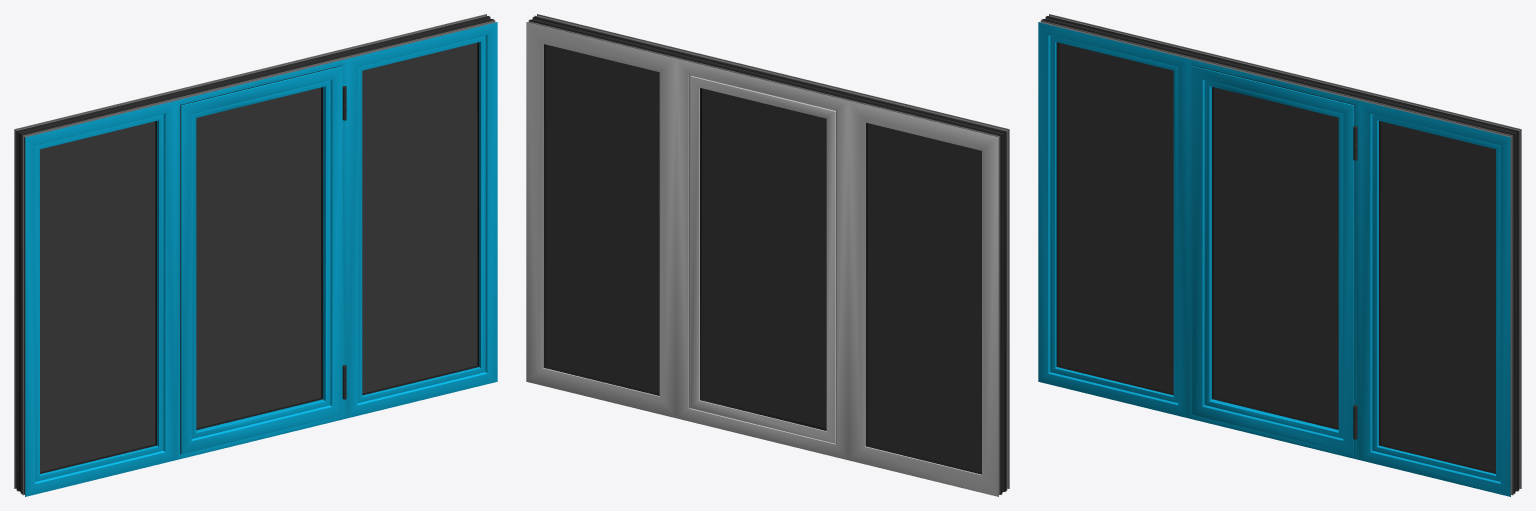
The model's file is 98_3_glass_1_door.fbx.
The picture shows the model from 3 angles, left to right: view 1: azimuth 30°, elevation 25°; view 2: azimuth 150°, elevation 25°; view 3: azimuth 330°, elevation 25°; orthographic projection.
Visible parts, largest first — view 1: SM_extra_98_013, SM_Window_Frame_1_door_98_003, SM_Door_Frame_98_L_021, SM_Door_Frame_98_L_023, SM_Window_Frame_1_door_98_007, SM_extra_98_019, SM_Door_Frame_98_L_026; view 2: SM_extra_98_013, SM_Window_Frame_1_door_98_003, SM_Door_Frame_98_L_021, SM_Door_Frame_98_L_023, SM_Window_Frame_1_door_98_007, SM_extra_98_019, SM_Door_Frame_98_L_026; view 3: SM_extra_98_013, SM_Window_Frame_1_door_98_003, SM_Door_Frame_98_L_021, SM_Door_Frame_98_L_023, SM_Window_Frame_1_door_98_007, SM_extra_98_019, SM_Door_Frame_98_L_026.
Boxes of the visible parts, bbox=[...] form: SM_extra_98_013: bbox=[40, 43, 477, 472]; SM_Window_Frame_1_door_98_003: bbox=[14, 14, 497, 496]; SM_Door_Frame_98_L_021: bbox=[196, 87, 320, 428]; SM_Door_Frame_98_L_023: bbox=[181, 66, 342, 454]; SM_Window_Frame_1_door_98_007: bbox=[16, 16, 494, 494]; SM_extra_98_019: bbox=[40, 42, 479, 473]; SM_Door_Frame_98_L_026: bbox=[180, 65, 341, 454]; SM_extra_98_013: bbox=[546, 44, 981, 472]; SM_Window_Frame_1_door_98_003: bbox=[526, 14, 1009, 496]; SM_Door_Frame_98_L_021: bbox=[702, 88, 826, 428]; SM_Door_Frame_98_L_023: bbox=[689, 75, 835, 443]; SM_Window_Frame_1_door_98_007: bbox=[528, 16, 1006, 494]; SM_extra_98_019: bbox=[543, 44, 981, 474]; SM_Door_Frame_98_L_026: bbox=[700, 88, 826, 430]; SM_extra_98_013: bbox=[1058, 43, 1495, 472]; SM_Window_Frame_1_door_98_003: bbox=[1038, 14, 1521, 496]; SM_Door_Frame_98_L_021: bbox=[1214, 87, 1338, 427]; SM_Door_Frame_98_L_023: bbox=[1192, 66, 1354, 453]; SM_Window_Frame_1_door_98_007: bbox=[1041, 16, 1519, 494]; SM_extra_98_019: bbox=[1056, 42, 1495, 473]; SM_Door_Frame_98_L_026: bbox=[1193, 65, 1354, 453].
Bounding box in the file's own units: 220 × 160 × 10.69.
